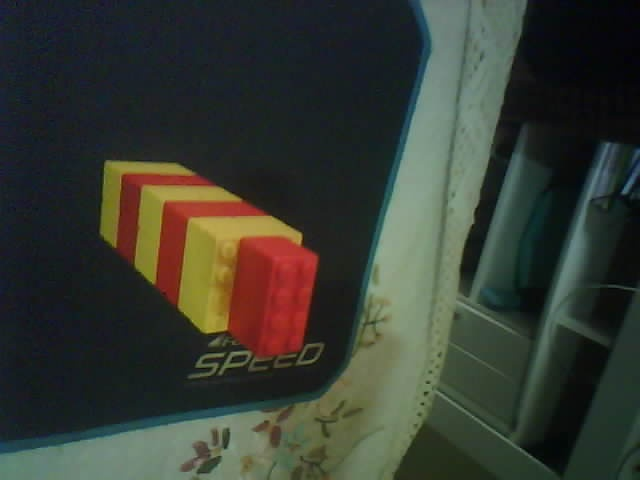lego: (99, 158, 319, 359)
